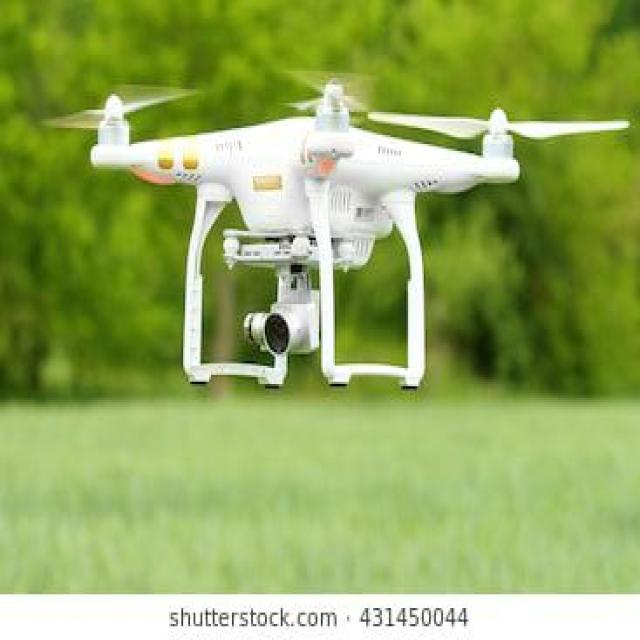drone: (3, 46, 640, 409)
